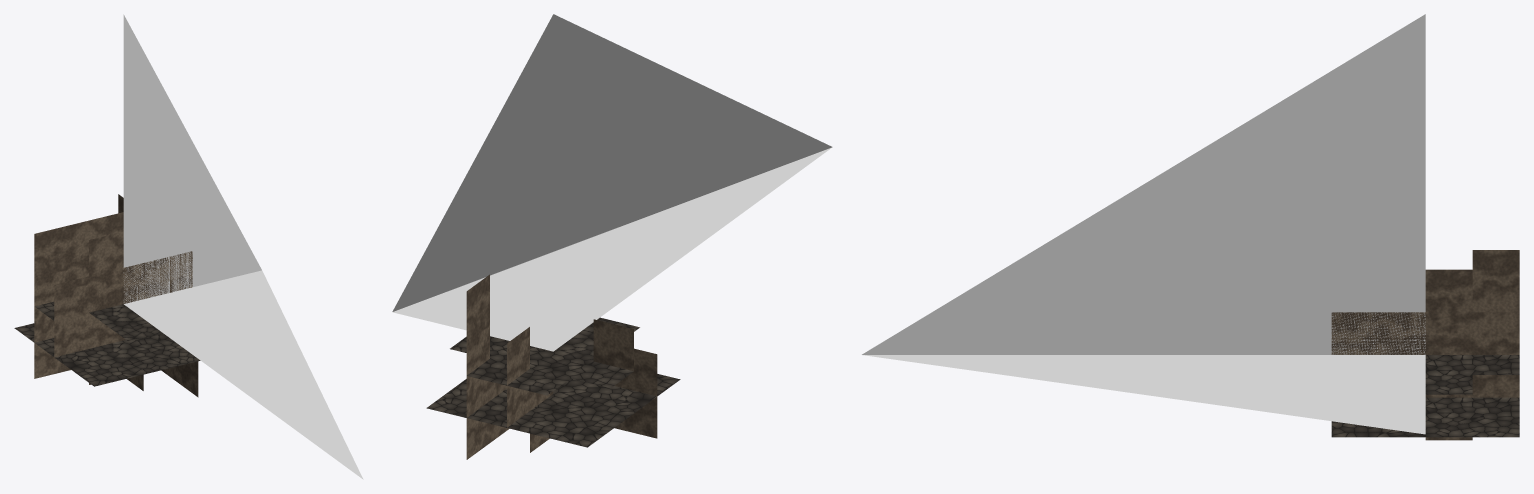
The model's file is tiles.glb.
The picture shows the model from 3 angles, left to right: view 1: azimuth 30°, elevation 25°; view 2: azimuth 150°, elevation 25°; view 3: azimuth 270°, elevation 25°; orthographic projection. The views are drawn at different scales.
Visible parts, largest first — view 1: mb_frame, tetra_b1h3, edge_inner_b2h4, slab_b4h0, edge_b1h1, tetra_b3h1, ell_b3h0, edge_b0h2, ell_b0h3, corner_b0h1, edge_inner_b4h2, tetra_b3h1_outdoor (+11 smaller); view 2: mb_frame, twist_left_b1h3, ell_b2h1_b, ell_b3h0, ell_b3h0_outdoor, ell_b1h2_b, tetra_b3h1, twist_left_b2h2, edge_b2h0, twist_left_b3h1_outdoor, tetra_b3h1_outdoor, spike_b1h1 (+10 smaller); view 3: mb_frame, corner_inner_b3h4, tetra_b1h3, twist_right_b3h1, ell_b0h3, ell_b1h2_a, corner_b0h1, edge_b1h1, edge_b2h0, twist_right_b3h1_outdoor, ell_b2h1_a, ell_inner_b3h2_b (+6 smaller).
Boxes of the visible parts, x1,y1,x2,y2 form: mb_frame: (123,14,363,479); tetra_b1h3: (54,231,123,320); edge_inner_b2h4: (123,251,192,303); slab_b4h0: (89,334,197,377); edge_b1h1: (34,226,68,375); tetra_b3h1: (35,301,123,357); ell_b3h0: (35,338,128,386); edge_b0h2: (36,212,123,267); ell_b0h3: (89,232,123,276); corner_b0h1: (34,225,68,269); edge_inner_b4h2: (91,335,197,377); tetra_b3h1_outdoor: (34,302,123,356); mb_frame: (392,14,832,351); twist_left_b1h3: (593,319,657,437); ell_b2h1_b: (466,274,529,427); ell_b3h0: (530,374,680,430); ell_b3h0_outdoor: (428,374,679,437); ell_b1h2_b: (466,327,529,459); tetra_b3h1: (509,351,633,394); twist_left_b2h2: (450,327,529,458); edge_b2h0: (426,391,569,437); twist_left_b3h1_outdoor: (466,318,640,443); tetra_b3h1_outdoor: (521,352,632,393); spike_b1h1: (466,276,673,438); mb_frame: (862,14,1425,434); corner_inner_b3h4: (1331,312,1461,396); tetra_b1h3: (1425,269,1519,354); twist_right_b3h1: (1331,397,1472,437); ell_b0h3: (1425,269,1472,312); ell_b1h2_a: (1472,312,1519,354); corner_b0h1: (1472,250,1519,292); edge_b1h1: (1472,250,1519,312); edge_b2h0: (1472,397,1519,437); twist_right_b3h1_outdoor: (1331,375,1519,437); ell_b2h1_a: (1472,375,1519,437); ell_inner_b3h2_b: (1425,355,1472,394).
Bounding box in the file's own units: 1.5 × 2.5 × 3.5.
2 materials, 2 textured.
